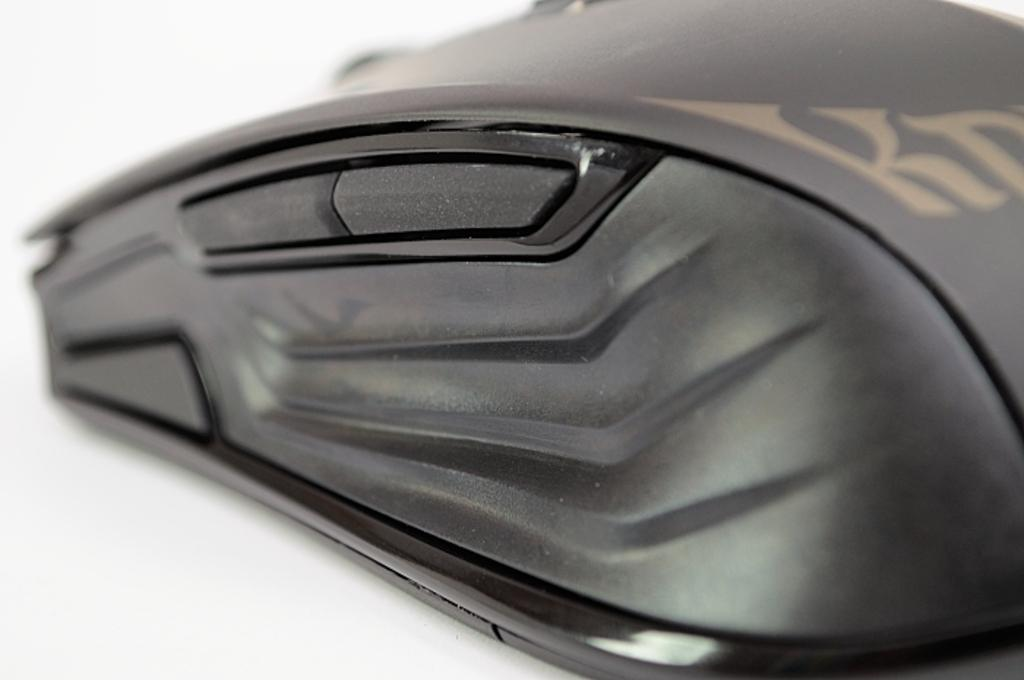Computer-mouse: (19, 0, 1023, 679)
